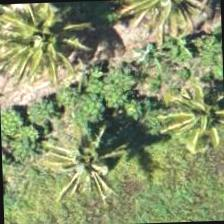Kelapa_Sawit: (46, 122, 140, 215), (0, 1, 81, 77), (162, 78, 223, 172)
